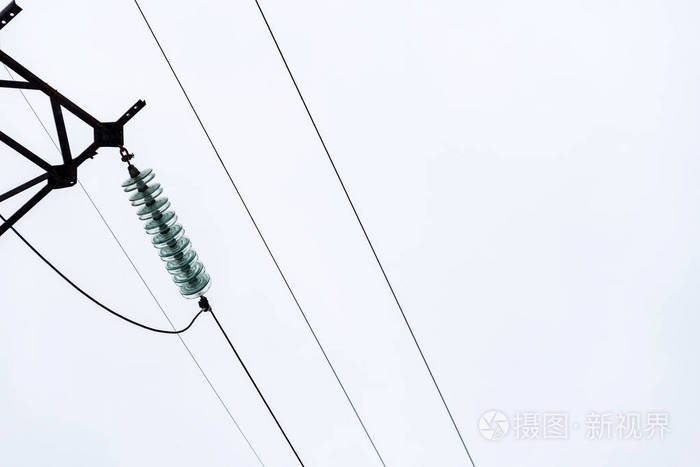insulator: (123, 169, 215, 299)
